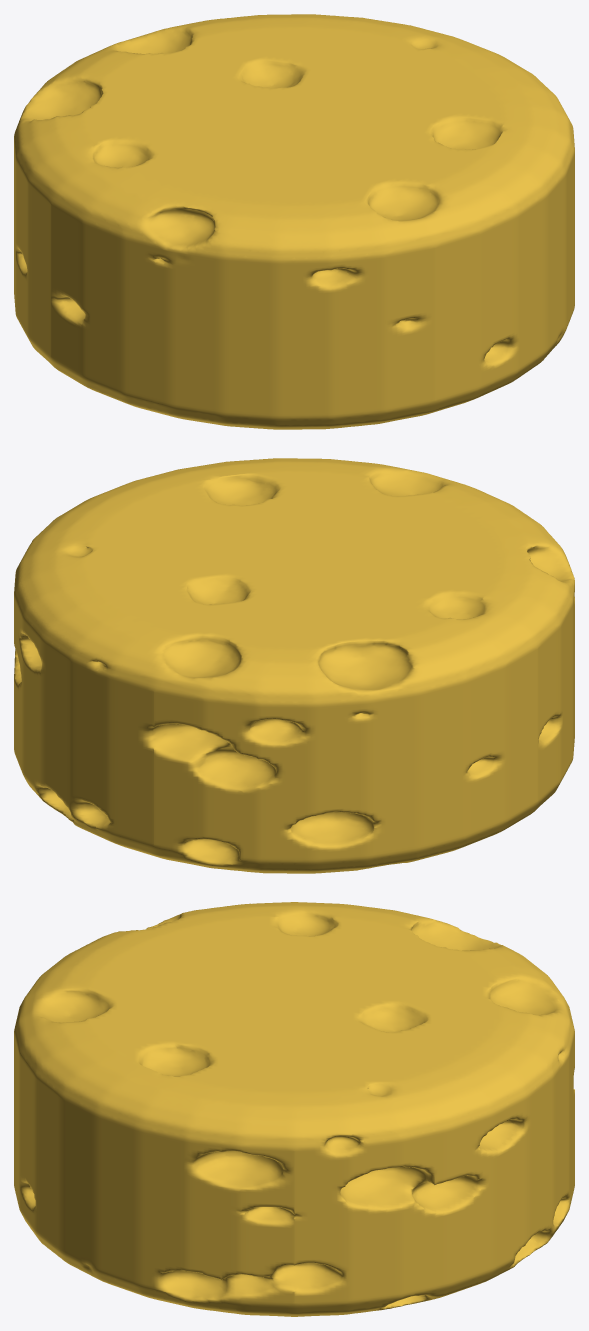
File: cheese1.fbx
3 renders of one model, top to bottom at view 1: azimuth 30°, elevation 25°; view 2: azimuth 150°, elevation 25°; view 3: azimuth 270°, elevation 25°, orthographic.
Visible parts, largest first — view 1: Cylinder; view 2: Cylinder; view 3: Cylinder.
Boxes of the visible parts, x1,y1,x2,y2 form: Cylinder: (14,14,574,429); Cylinder: (14,458,574,873); Cylinder: (14,902,574,1316).
Size of the model in its own units: 236 by 98.86 by 236.
